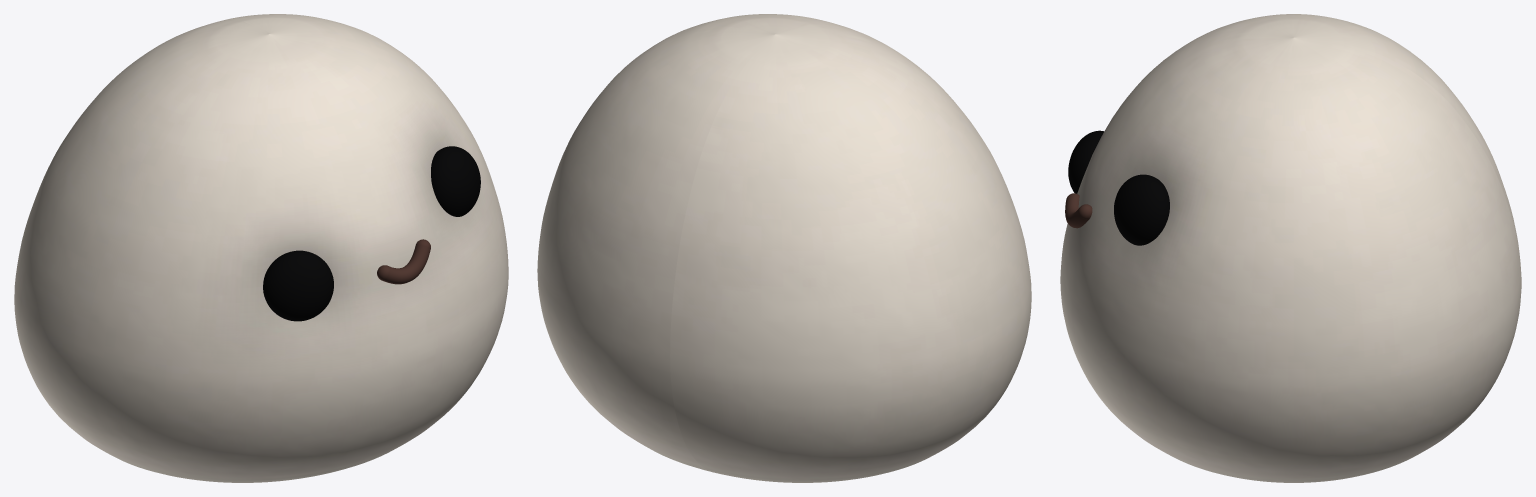
File: nog-hatchling.glb
The picture shows the model from 3 angles, left to right: view 1: azimuth 30°, elevation 25°; view 2: azimuth 150°, elevation 25°; view 3: azimuth 270°, elevation 25°; orthographic projection.
Parts seen in each view (by area): view 1: clay_body, eye_left, clay_smile; view 2: clay_body; view 3: clay_body, eye_left, clay_smile.
Boxes of the visible parts, x1,y1,x2,y2 form: clay_body: [14, 14, 508, 482]; eye_left: [263, 146, 480, 321]; clay_smile: [377, 239, 430, 284]; clay_body: [537, 14, 1031, 482]; clay_body: [1060, 14, 1521, 482]; eye_left: [1068, 130, 1169, 245]; clay_smile: [1065, 193, 1092, 228].
Bounding box in the file's own units: 1.16 × 1 × 1.06.
Materials: 3 (1 with a texture image).
